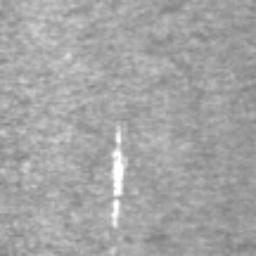White rust: (109, 125, 128, 229)
